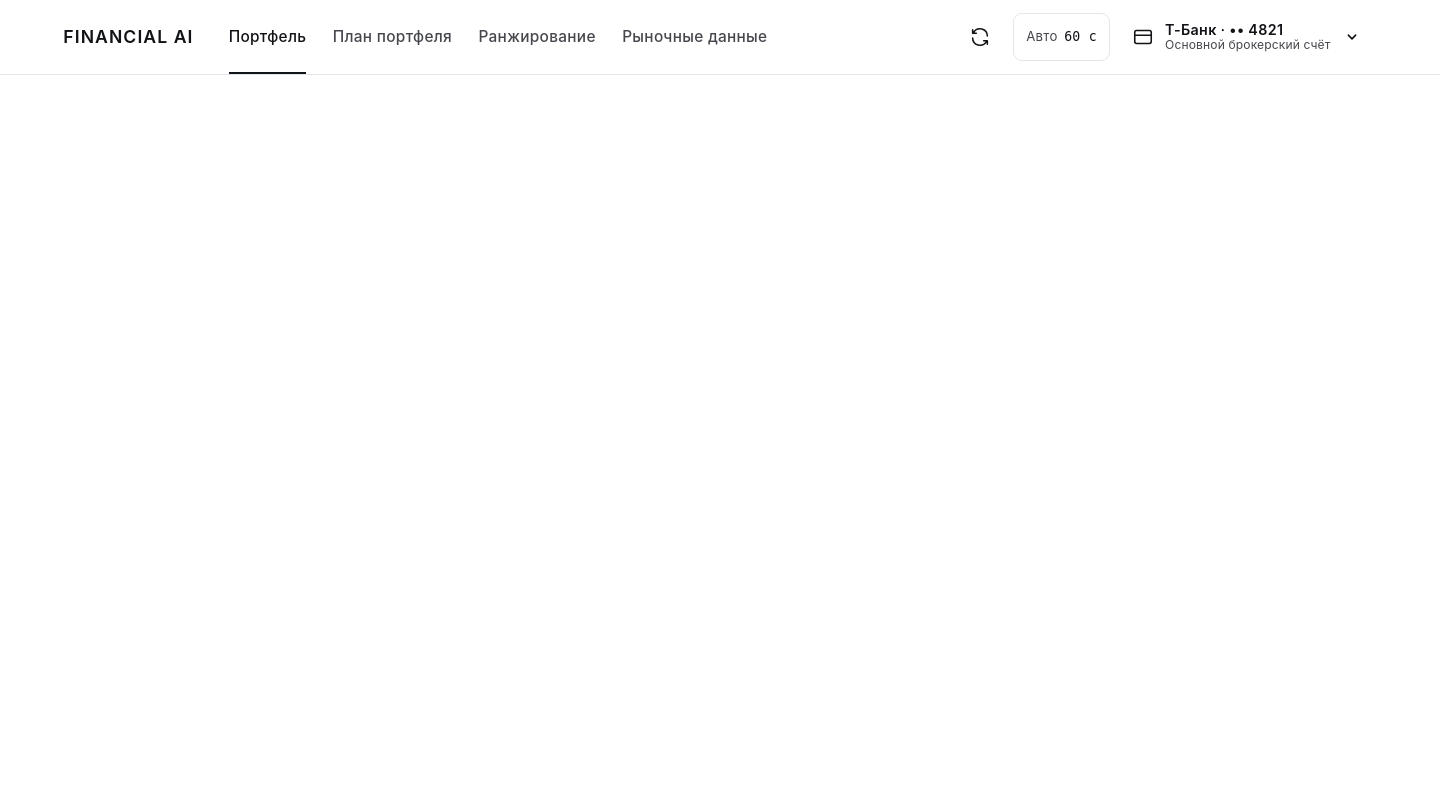
ручное обновление › подтверждает успешное обновление
Click the button named "Обновить данные": (980, 37) [956, 13, 1004, 61]
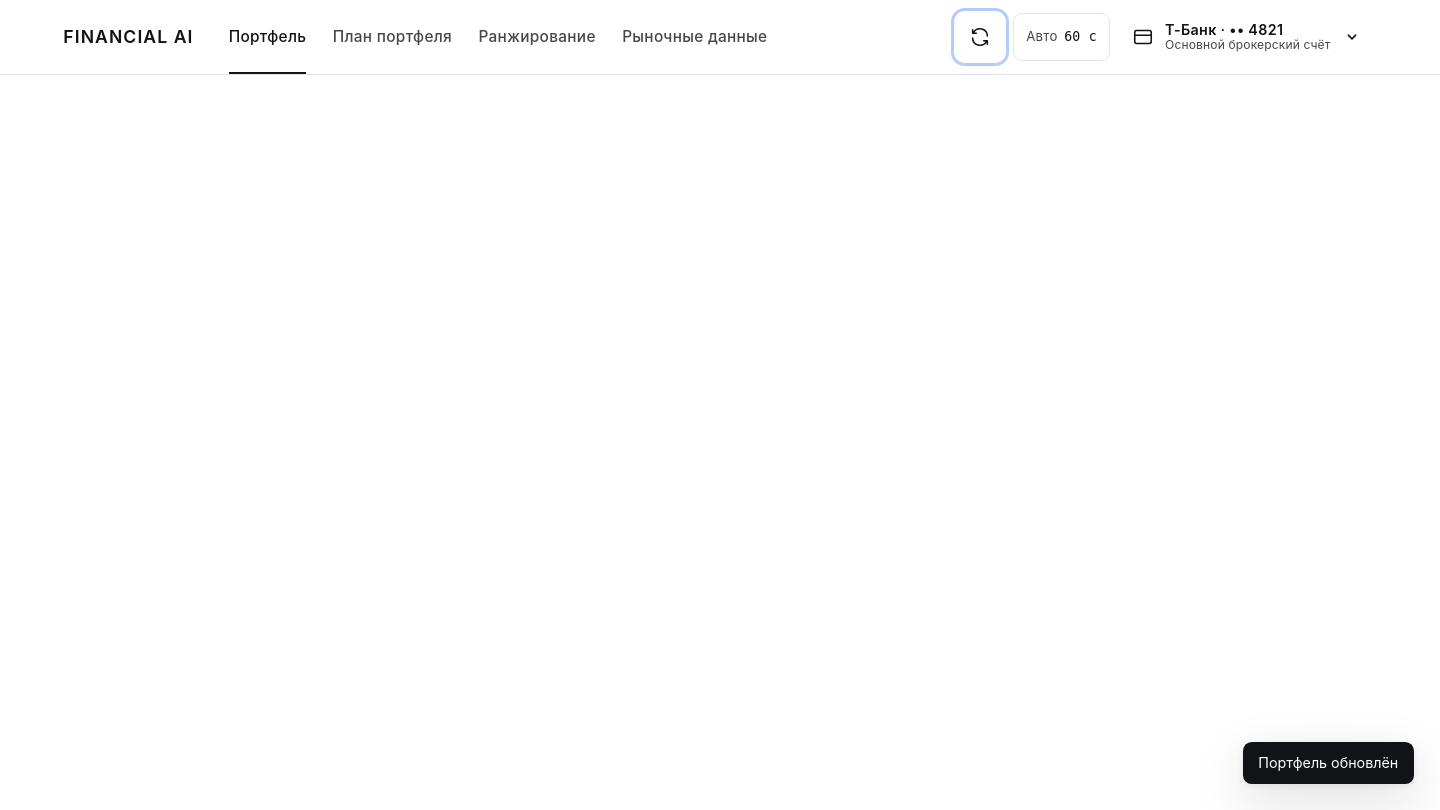
Now the text "Портфель обновлён" is shown, box [1243, 742, 1414, 784]
